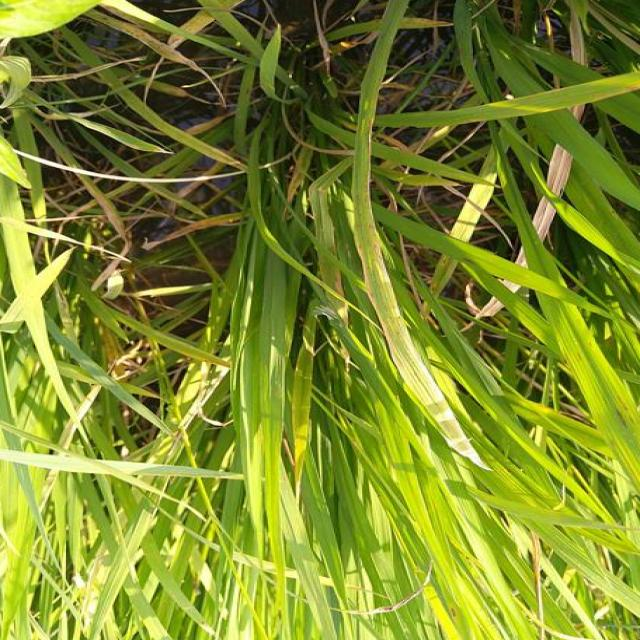Leaf Blight: (352, 7, 486, 466), (547, 144, 573, 195), (565, 0, 584, 65), (532, 196, 556, 240), (473, 297, 502, 317), (500, 279, 519, 292), (571, 104, 584, 121), (516, 250, 525, 266)
